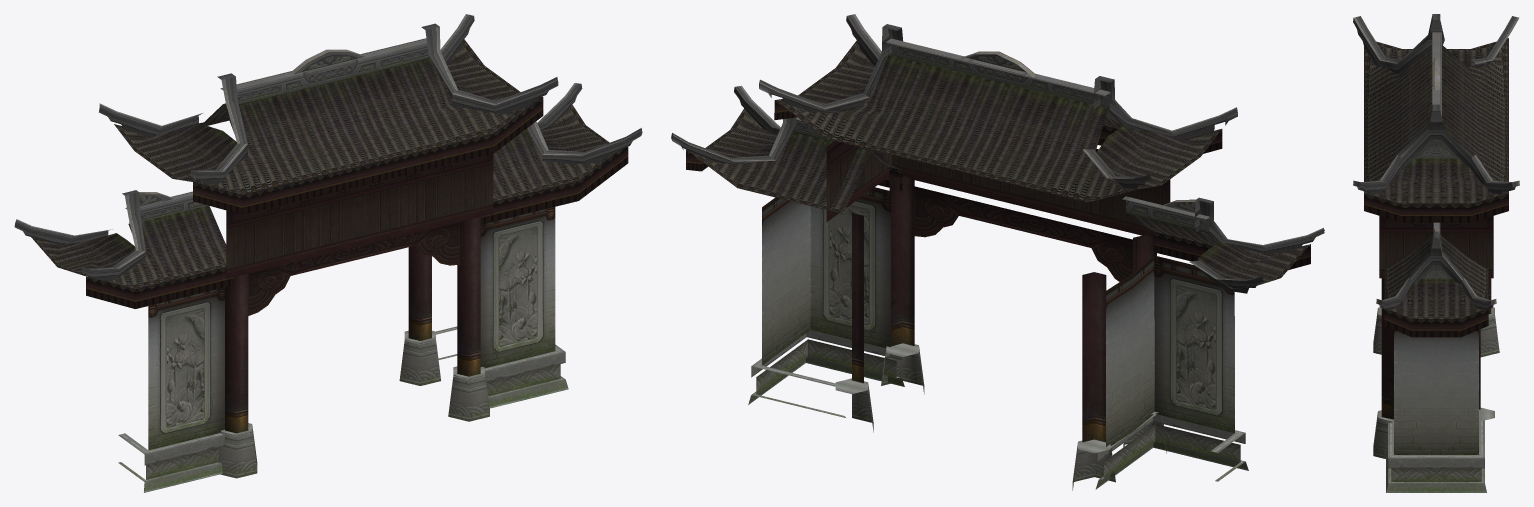
File: zc_suzhou_chengmen.FBX
The picture shows the model from 3 angles, left to right: view 1: azimuth 30°, elevation 25°; view 2: azimuth 150°, elevation 25°; view 3: azimuth 270°, elevation 25°; orthographic projection. The views are drawn at different scales.
Parts seen in each view (by area): view 1: zc_suzhou_chengmen; view 2: zc_suzhou_chengmen; view 3: zc_suzhou_chengmen.
Boxes of the visible parts, bbox=[...] form: zc_suzhou_chengmen: bbox=[14, 14, 642, 492]; zc_suzhou_chengmen: bbox=[671, 14, 1324, 490]; zc_suzhou_chengmen: bbox=[1353, 14, 1519, 492].
Bounding box in the file's own units: 1391 × 868 × 389.
Materials: 1 (1 with a texture image).
